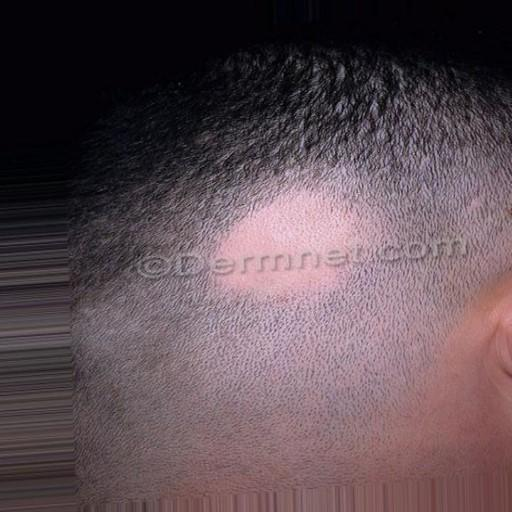Alopecia Areata: (209, 173, 374, 306)
